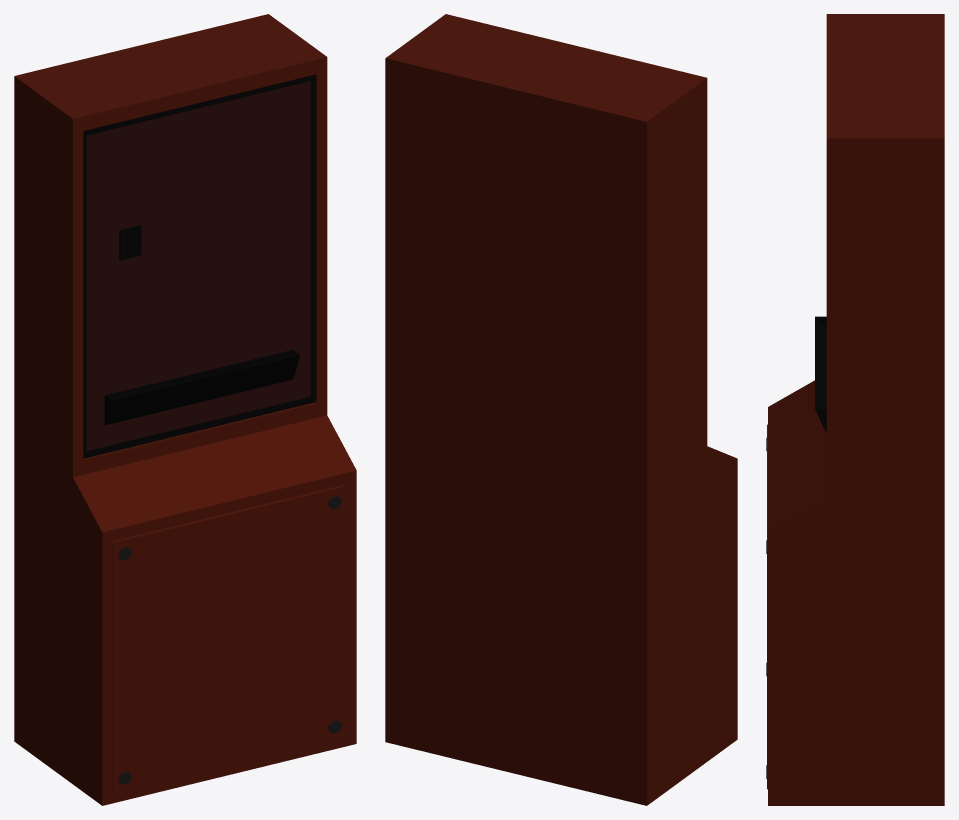
Rendered from CashMachine.fbx.
3 renders of one model, left to right at view 1: azimuth 30°, elevation 25°; view 2: azimuth 150°, elevation 25°; view 3: azimuth 270°, elevation 25°, orthographic. The views are drawn at different scales.
Parts seen in each view (by area): view 1: m, Box005; view 2: m; view 3: m, Box005.
Boxes of the visible parts, x1,y1,x2,y2 form: m: [14, 14, 356, 805]; Box005: [112, 484, 346, 792]; m: [385, 14, 737, 805]; m: [768, 14, 944, 805]; Box005: [767, 424, 767, 789].
Size of the model in its own units: 100 by 250 by 60.53.
